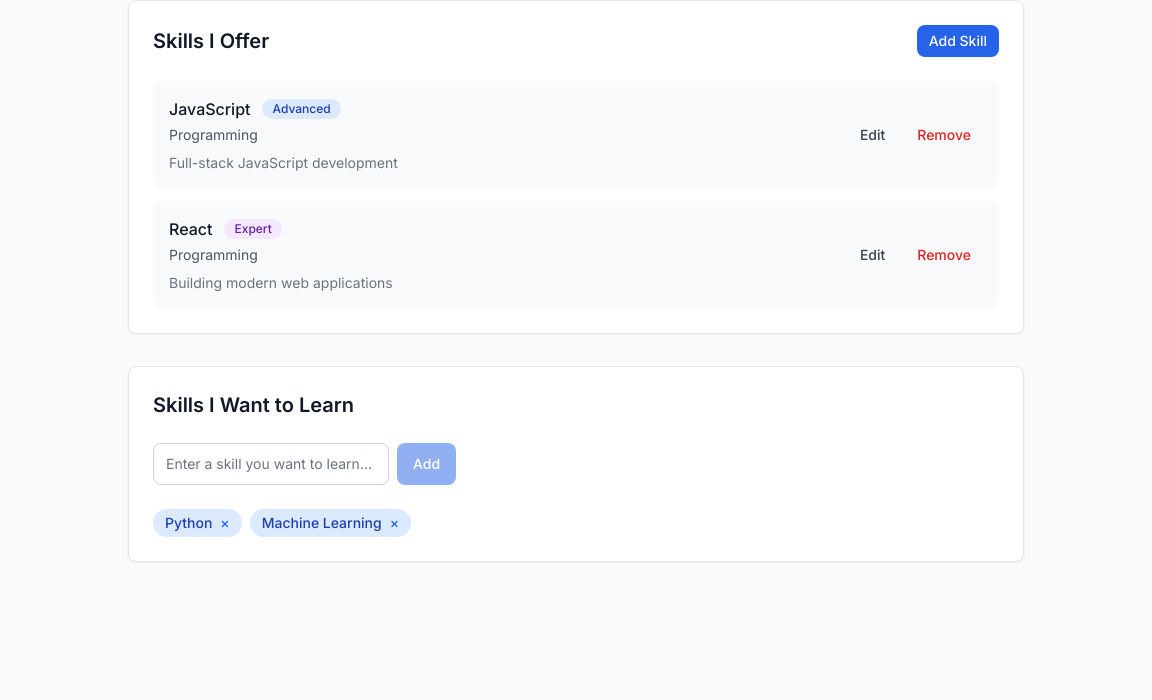
Test: SkillsManager › shows character count for description field
Step 1. Click the button "Add Skill" → (958,41), box [917, 25, 999, 57]
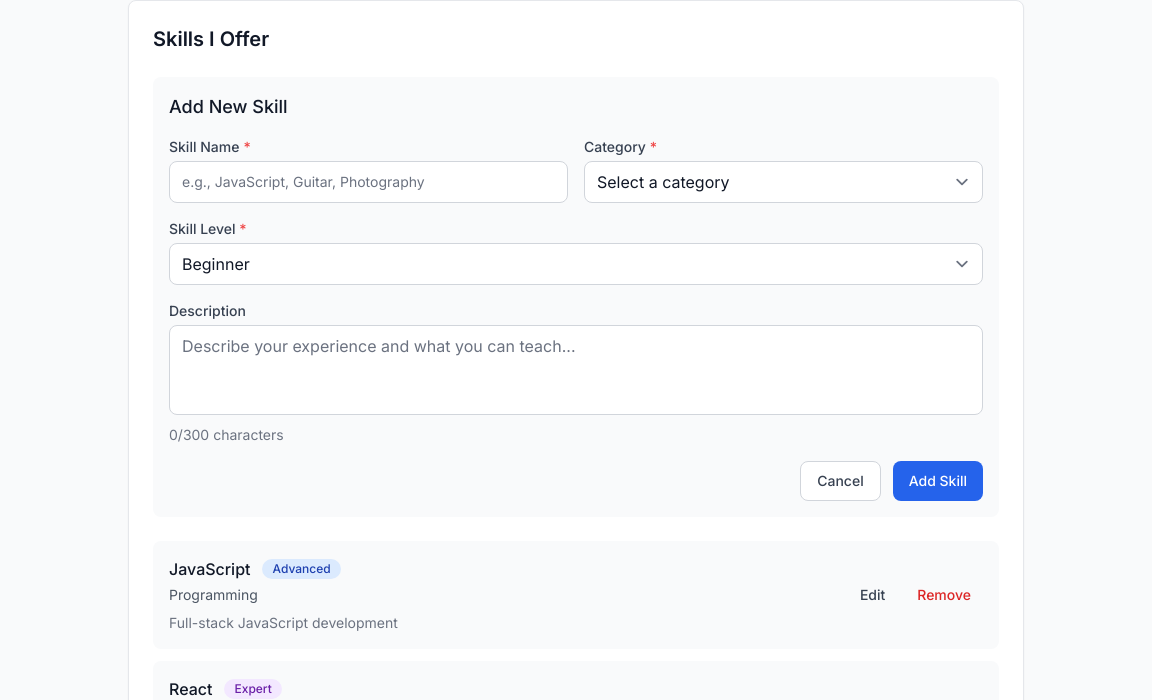
Check: the text "0/300 characters" is shown, box [169, 426, 284, 443]
Step 2. Type "Test description" into the text box → (576,370), box [169, 325, 983, 415]
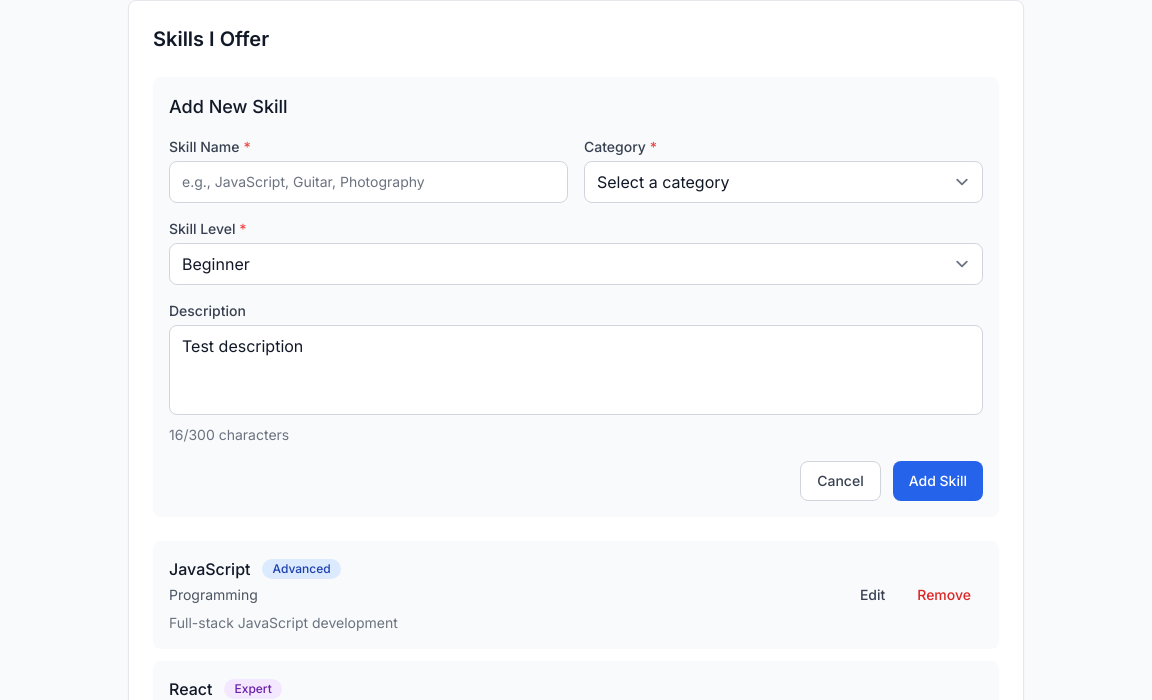
Check: the text "16/300 characters" is shown, box [169, 426, 289, 443]
